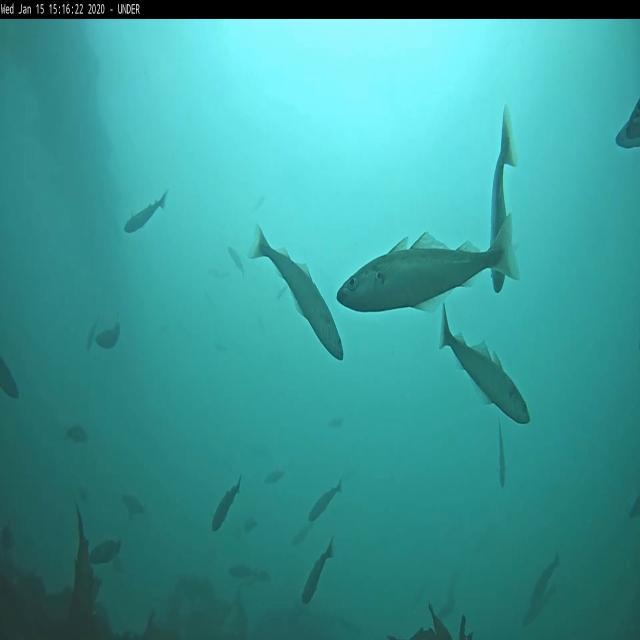fish: (337, 221, 519, 312), (251, 223, 343, 362), (441, 300, 531, 424), (491, 106, 515, 298), (302, 538, 334, 602), (124, 192, 169, 235), (210, 475, 242, 530), (530, 556, 559, 605), (522, 586, 557, 624), (308, 481, 342, 520), (94, 316, 121, 351), (616, 114, 638, 150), (88, 540, 120, 564), (1, 360, 20, 398), (290, 518, 314, 547), (498, 415, 507, 485), (626, 101, 640, 138), (122, 492, 145, 514), (227, 246, 245, 271), (67, 422, 88, 440), (264, 468, 286, 485), (85, 322, 98, 349), (228, 566, 252, 580)
